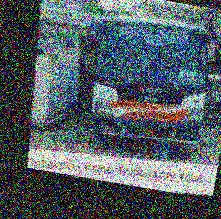bus: (70, 1, 221, 160)
